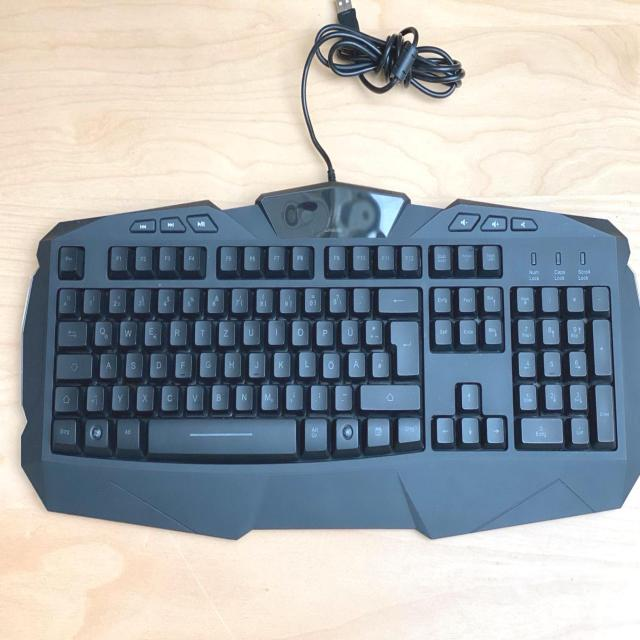0: (303, 285, 321, 311)
1: (82, 286, 100, 312)
2: (107, 286, 125, 312)
3: (132, 286, 150, 311)
4: (156, 286, 174, 312)
5: (181, 286, 199, 312)
6: (206, 285, 224, 312)
7: (230, 286, 248, 312)
8: (254, 286, 272, 312)
9: (278, 286, 296, 312)
a: (98, 351, 116, 377)
accent: (352, 285, 369, 311)
ae: (346, 349, 364, 376)
alt-left: (114, 416, 139, 449)
altgr-right: (302, 416, 327, 450)
b: (210, 381, 228, 408)
c: (160, 383, 178, 409)
caret: (57, 286, 75, 312)
comma: (284, 381, 302, 408)
d: (148, 350, 166, 377)
del: (376, 285, 418, 311)
e: (143, 318, 161, 344)
enter: (388, 317, 418, 374)
f: (173, 350, 191, 376)
g: (198, 349, 215, 376)
h: (223, 351, 240, 376)
hash: (370, 349, 388, 376)
i: (266, 317, 284, 343)
j: (247, 350, 264, 376)
k: (273, 352, 289, 375)
keyboard: (39, 231, 627, 481)
l: (297, 349, 314, 375)
less: (85, 383, 103, 410)
m: (259, 382, 277, 409)
minus: (333, 383, 351, 409)
n: (234, 383, 252, 409)
o: (290, 317, 308, 344)
oe: (321, 350, 339, 376)
p: (314, 317, 332, 344)
plus: (363, 317, 381, 343)
point: (310, 383, 327, 408)
q: (93, 318, 111, 344)
r: (168, 318, 186, 344)
s: (124, 350, 142, 377)
shift-left: (53, 384, 77, 411)
shift-lock: (55, 352, 92, 379)
shift-right: (358, 382, 419, 409)
space: (145, 415, 296, 455)
ss: (327, 286, 345, 312)
strg-left: (51, 417, 76, 444)
strg-right: (396, 415, 421, 441)
t: (193, 318, 210, 343)
tab: (56, 318, 86, 345)
u: (241, 318, 259, 343)
ue: (339, 317, 357, 343)
v: (185, 383, 203, 409)
w: (118, 318, 136, 344)
x: (135, 383, 153, 410)
y: (110, 383, 127, 409)
z: (217, 318, 234, 344)
